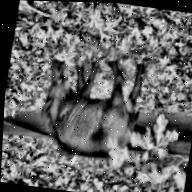boar: (28, 48, 150, 182)
